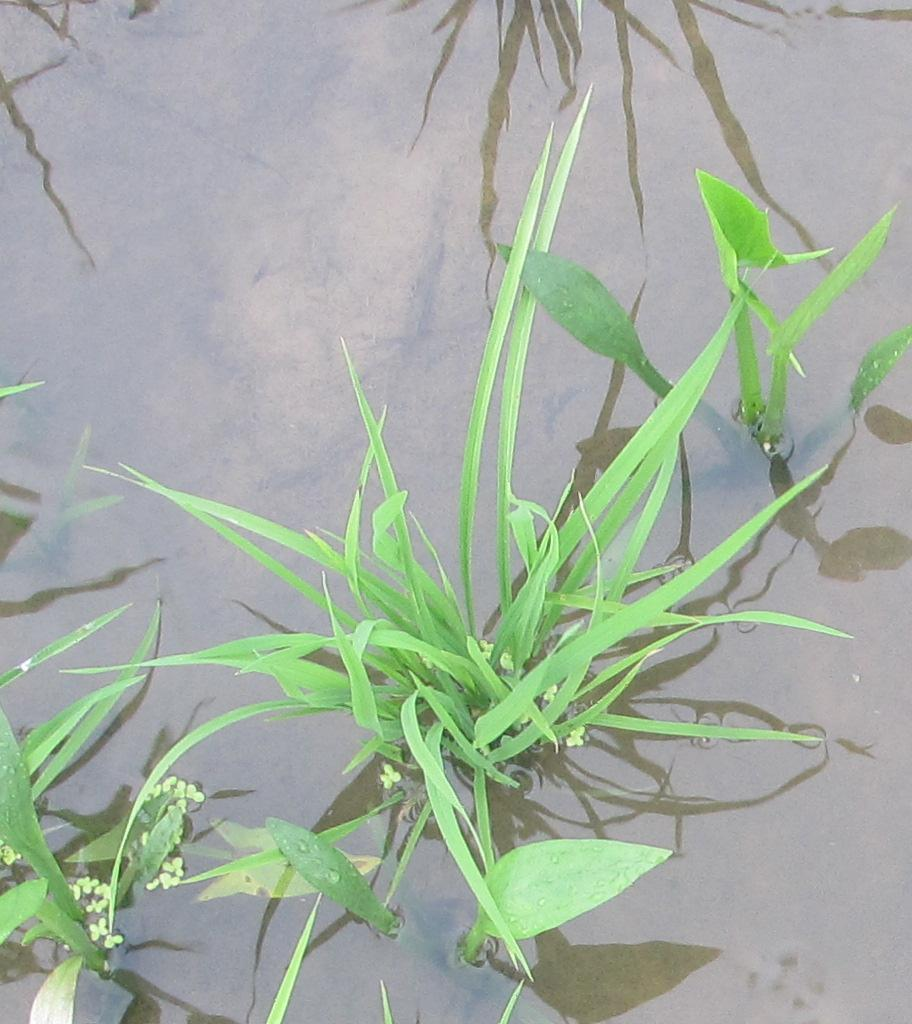Weed: (255, 807, 685, 960), (3, 683, 197, 983), (689, 153, 900, 422), (477, 233, 660, 377)
